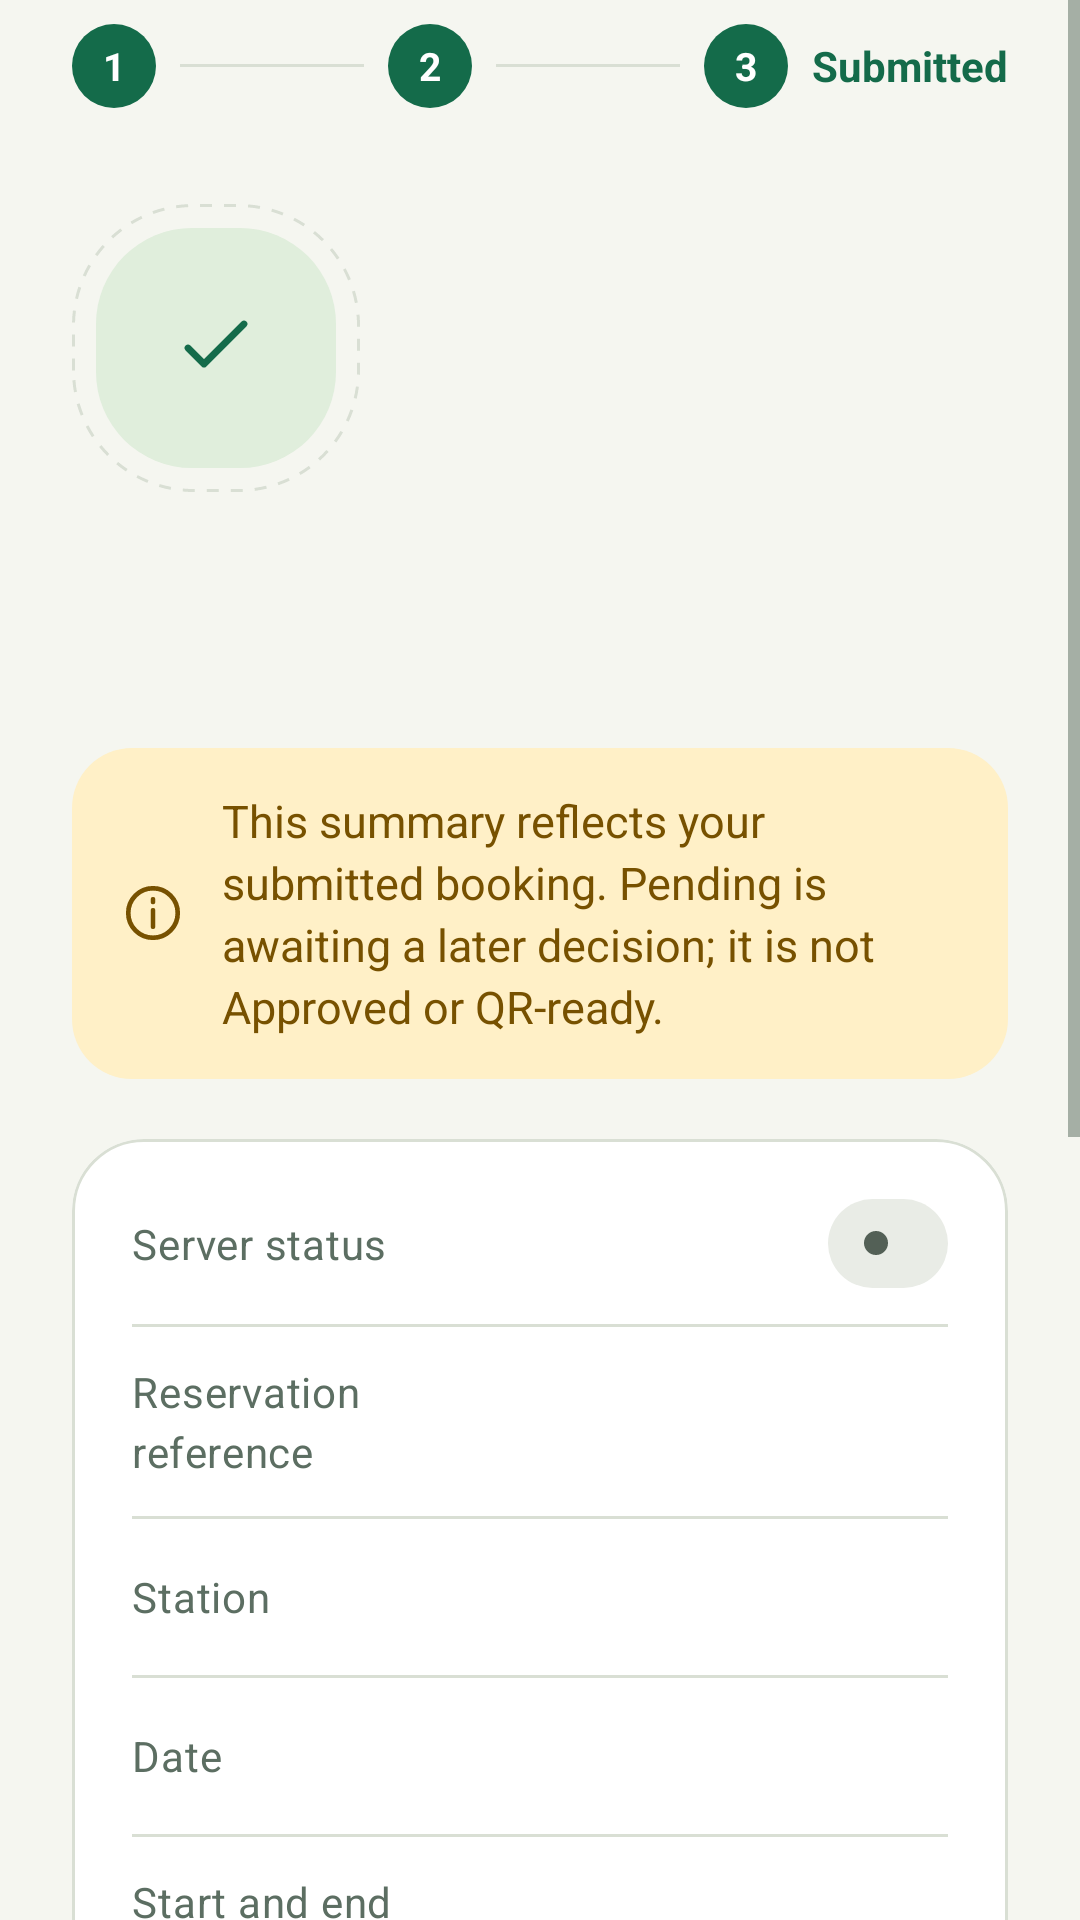

Locate icon controls on the screen. Image size 1080x1920, boxes as (x1, y1, x2, y2).
check: (96, 228, 336, 468)
